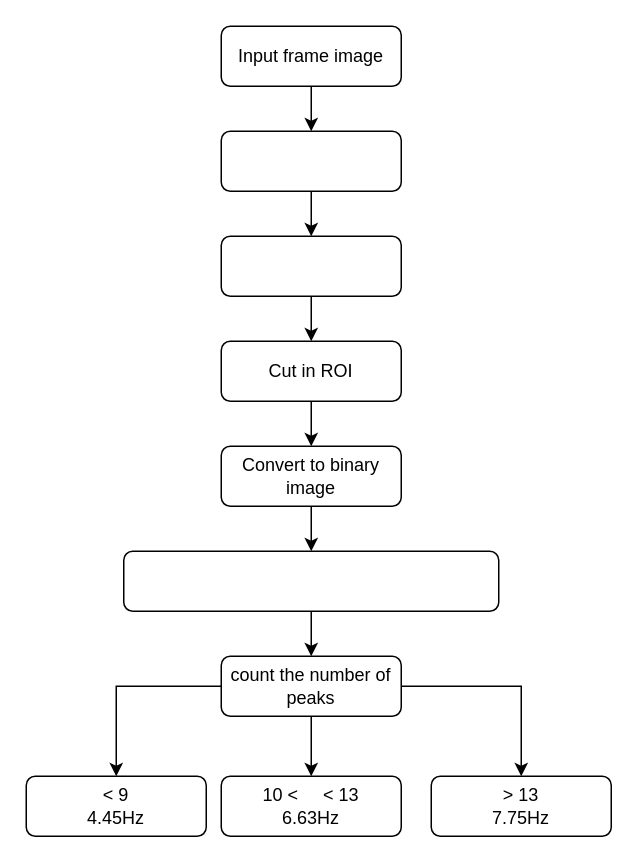
Some shapes in this 638 by 863 pixel diagram are drawn without their labels. Here are the shapes that lost their labels. From the top down, the box of each, then its label:
(220, 130, 401, 191): magnified with trained model
(220, 235, 401, 296): Create XT-slice image
(122, 550, 499, 611): findContour() tuple(contour[contour[: ,: , 1].argmin()][0]
